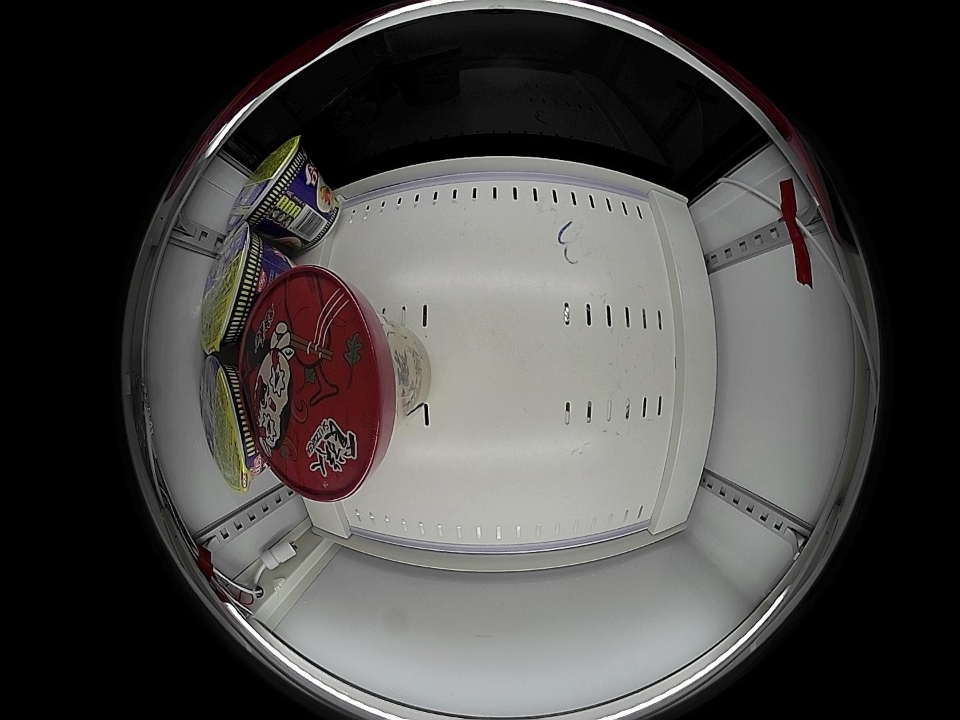heweidao: (199, 224, 272, 355), (199, 355, 264, 492), (227, 136, 310, 230)
suanlafen: (244, 267, 401, 502)
